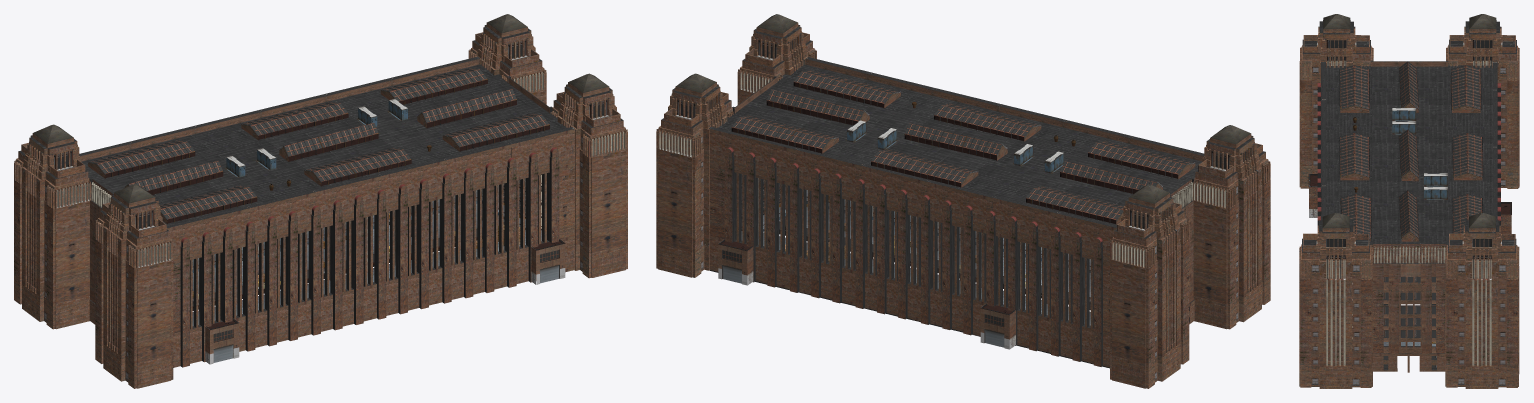
Rendered from huge_warehouse.glb.
The picture shows the model from 3 angles, left to right: view 1: azimuth 30°, elevation 25°; view 2: azimuth 150°, elevation 25°; view 3: azimuth 270°, elevation 25°; orthographic projection. The views are drawn at different scales.
Parts seen in each view (by area): view 1: Roof_0, Floor_2, Loading.001_1; view 2: Roof_0, Floor_2, Loading.001_1; view 3: Roof_0, Floor_2, Loading.001_1.
Boxes of the visible parts, x1=… form: Roof_0: x1=14, y1=25, x2=627, y2=388; Floor_2: x1=32, y1=14, x2=609, y2=325; Loading.001_1: x1=205, y1=239, x2=565, y2=364; Roof_0: x1=656, y1=25, x2=1270, y2=388; Floor_2: x1=675, y1=14, x2=1251, y2=368; Loading.001_1: x1=718, y1=239, x2=1018, y2=349; Roof_0: x1=1299, y1=20, x2=1519, y2=388; Floor_2: x1=1322, y1=14, x2=1496, y2=368; Loading.001_1: x1=1308, y1=174, x2=1511, y2=233.
Size of the model in its own units: 167 by 59.4 by 71.19.
Materials: 5 (5 with a texture image).
